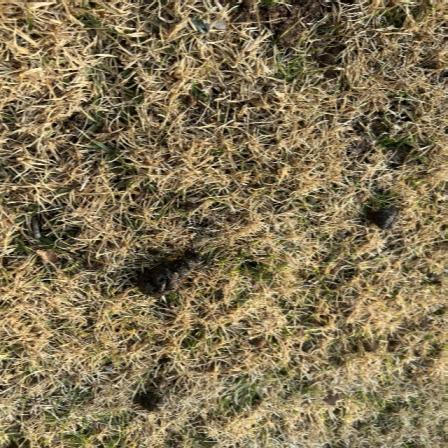dog-poop: (131, 245, 210, 299)
